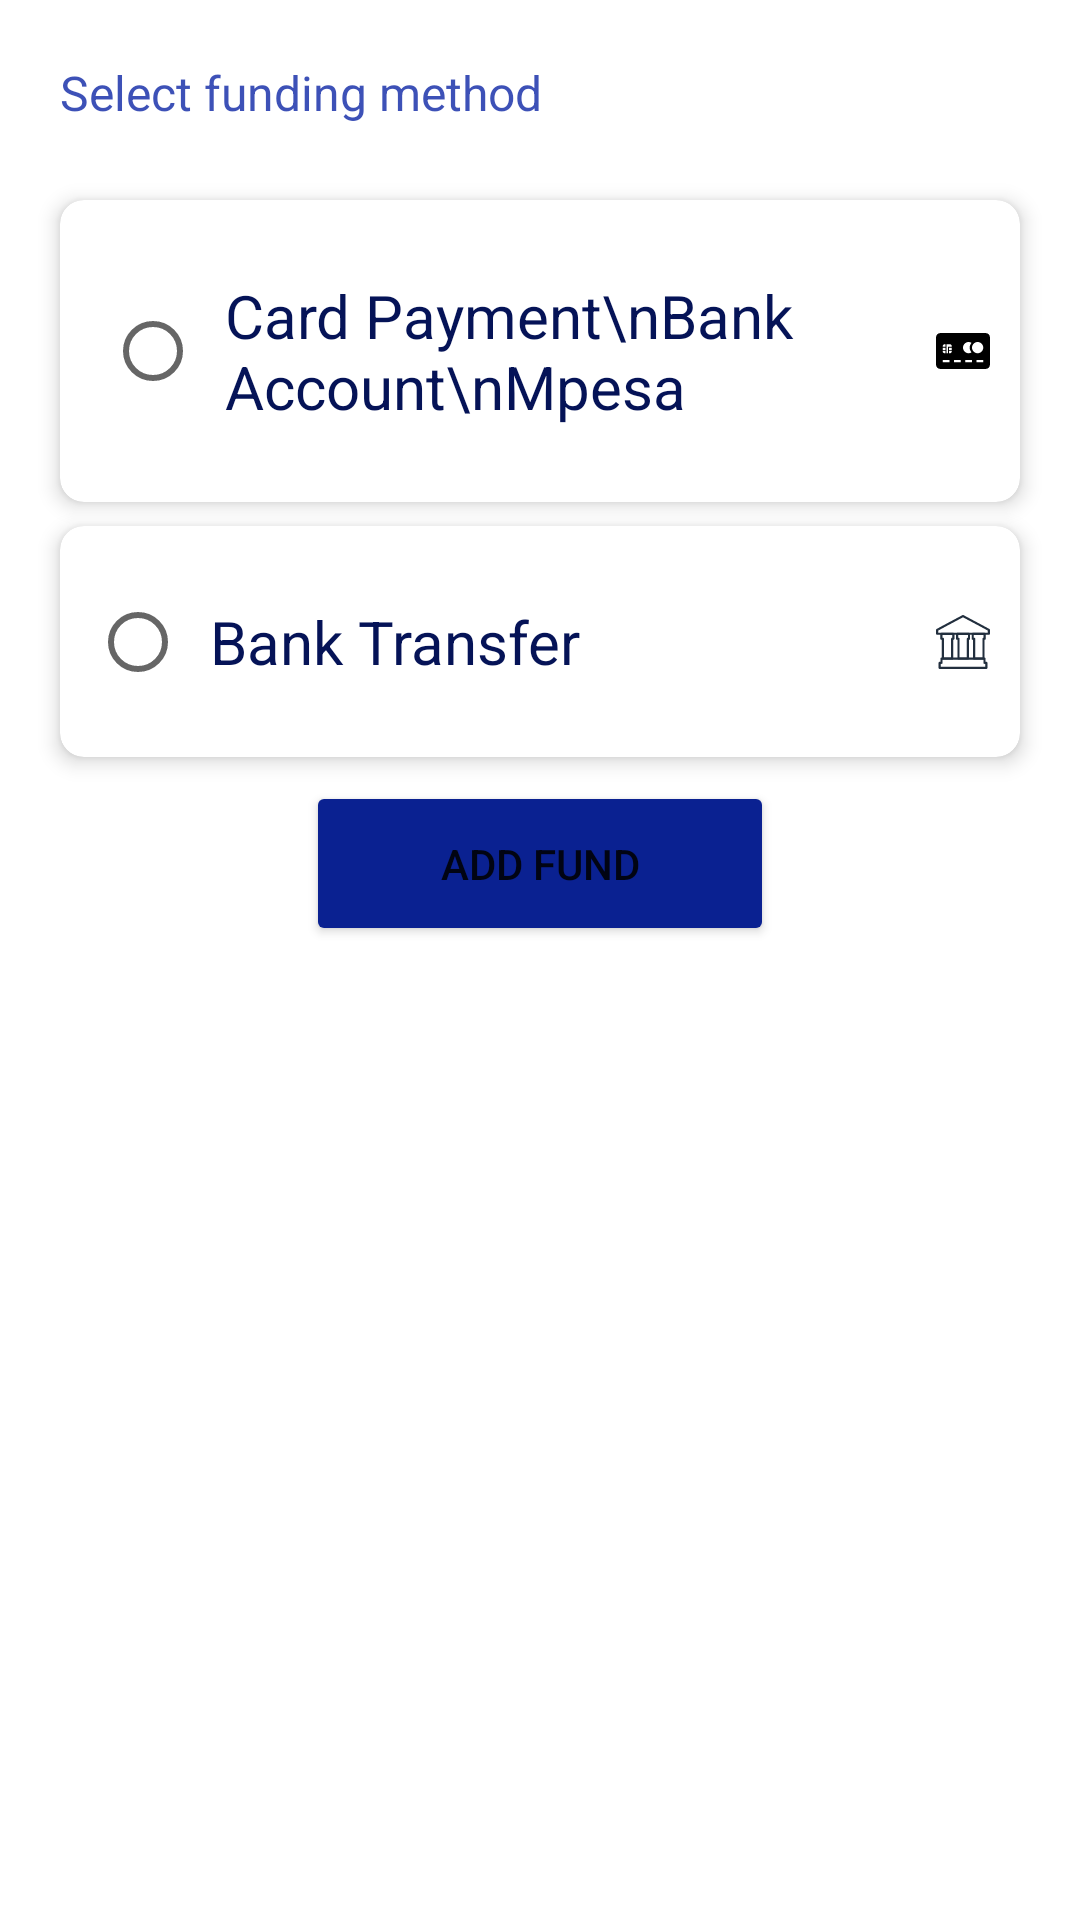

Icons on this 1080px×1920px Android screen, each with its box as (x1, y1, x2, y2):
debit card: (936, 333, 990, 369)
